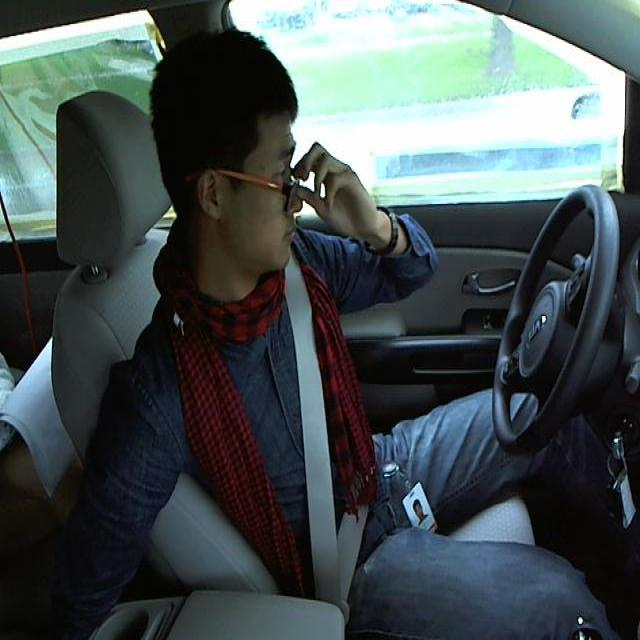seatbelt: (273, 280, 381, 591)
